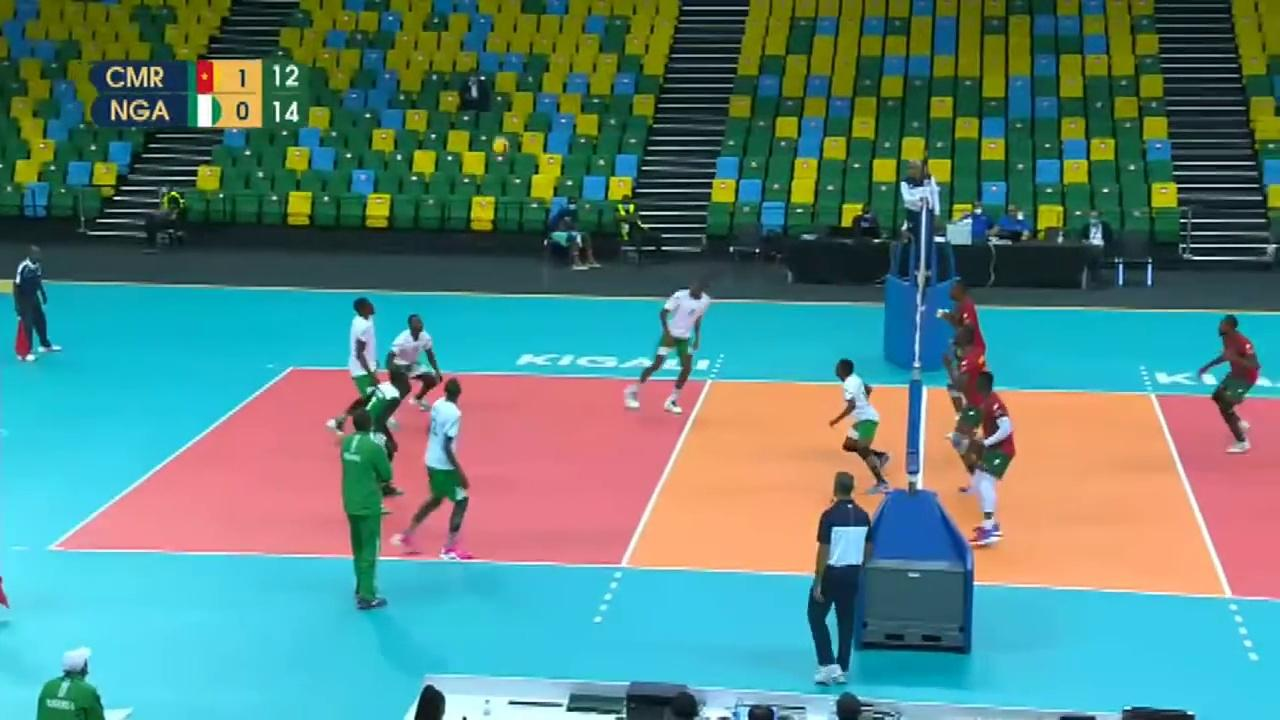player: (397, 380, 474, 557), (627, 280, 714, 415), (828, 356, 900, 494), (962, 373, 1017, 549), (1202, 312, 1263, 456), (946, 324, 996, 492), (940, 284, 990, 429), (338, 299, 390, 429), (388, 313, 441, 423)
refree: (807, 478, 876, 678), (15, 249, 64, 359), (899, 156, 941, 268)
